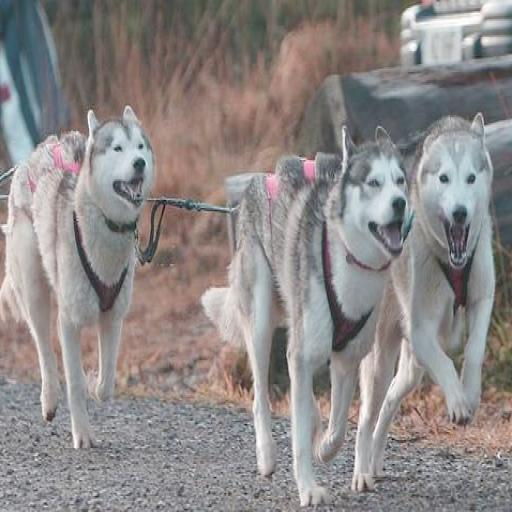dog_face: (422, 111, 491, 270), (341, 128, 410, 266), (82, 104, 158, 218)
